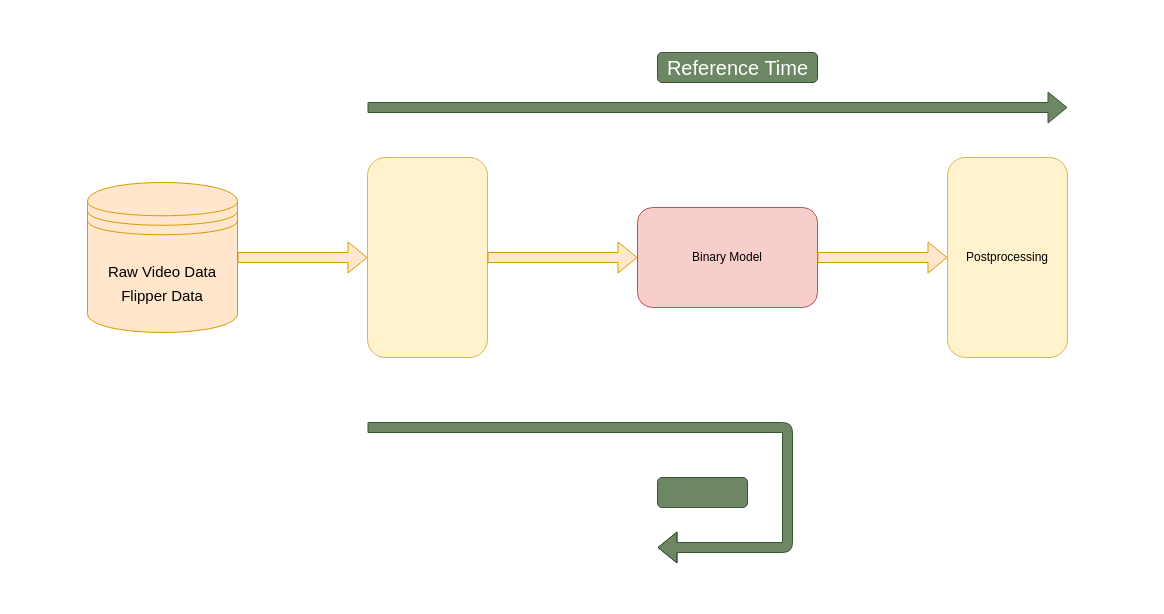
This 1164x614 diagram has some shape labels left out. Here are the shapes that lost their labels. From the top down, the centre of each, then its label:
point (427, 257): Preprocessing
point (702, 492): Training
